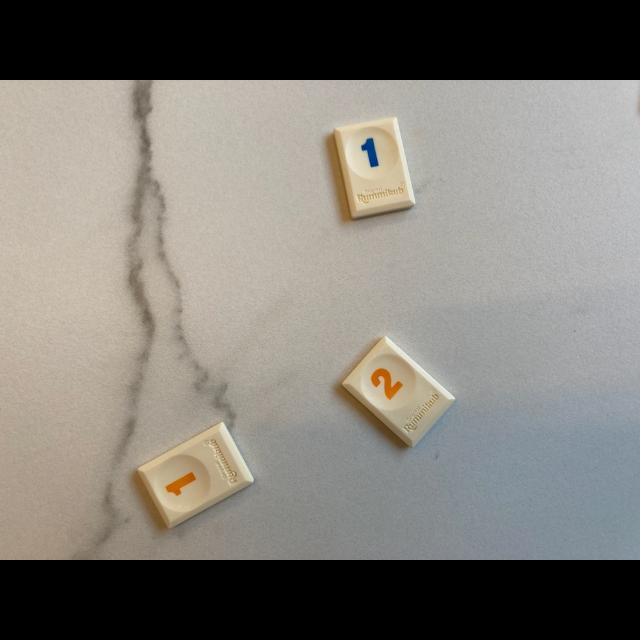blue_1: (334, 118, 415, 219)
orange_1: (138, 422, 254, 528)
orange_2: (342, 338, 455, 448)
